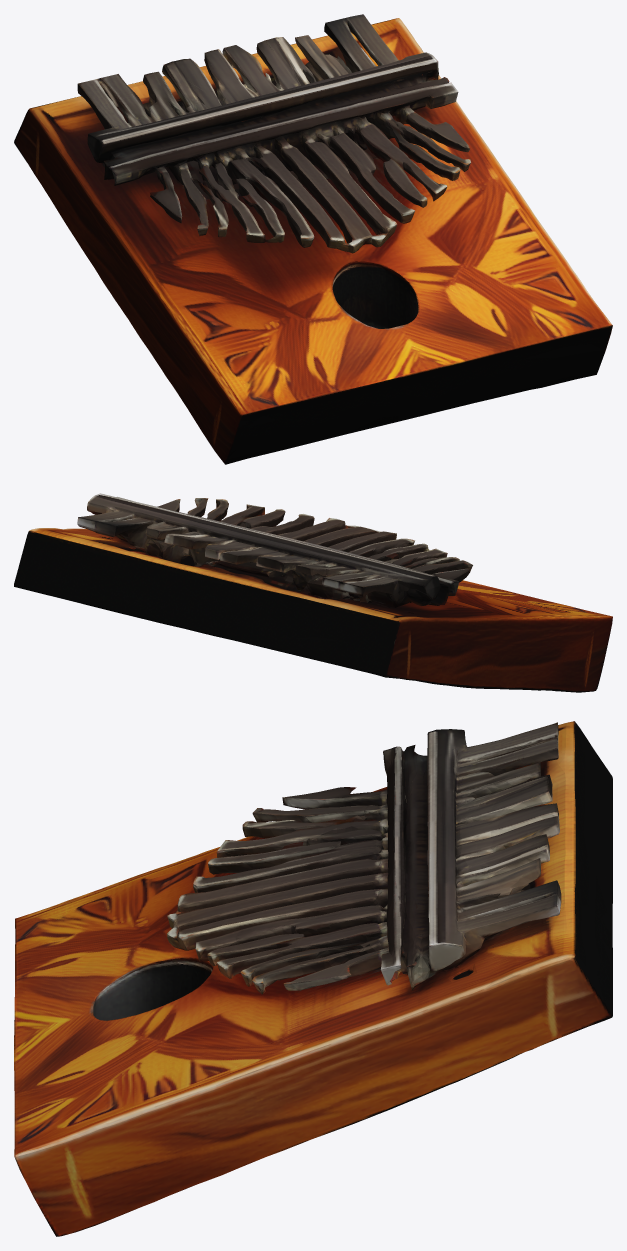
Rendered from wooden-kalimba-art-deco.jpeg.glb.
3 views of the same model, one above another, from view 1: azimuth 30°, elevation 25°; view 2: azimuth 150°, elevation 25°; view 3: azimuth 270°, elevation 25° (orthographic). The views are drawn at different scales.
Parts seen in each view (by area): view 1: world; view 2: world; view 3: world.
Boxes of the visible parts, <box> form: world: <box>14,14,612,464</box>; world: <box>14,493,612,692</box>; world: <box>14,721,612,1236</box>.
Size of the model in its own units: 0.94 by 0.5665 by 0.999.
Materials: 1 (1 with a texture image).
